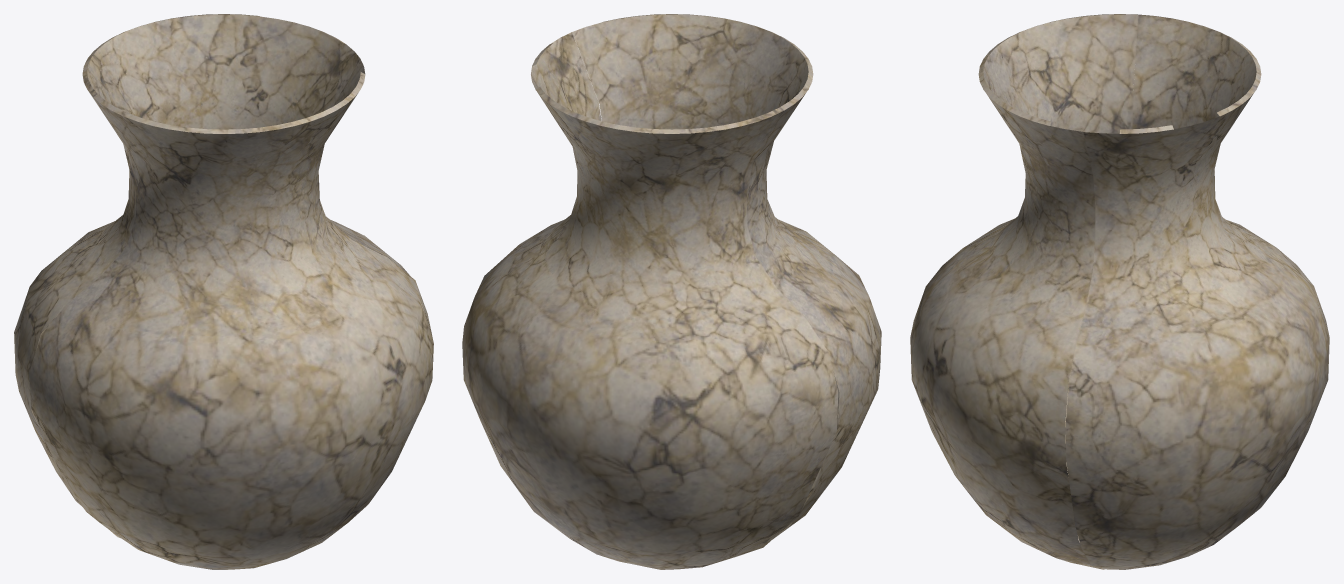
The model's file is vase.glb.
3 renders of one model, left to right at view 1: azimuth 30°, elevation 25°; view 2: azimuth 150°, elevation 25°; view 3: azimuth 270°, elevation 25°, orthographic.
Parts seen in each view (by area): view 1: vase; view 2: vase; view 3: vase.
Part boxes in pixels (<box>): vase: <box>14,14,433,569</box>; vase: <box>462,14,881,569</box>; vase: <box>910,14,1329,569</box>.
Size of the model in its own units: 9.82 by 12.27 by 9.83.
1 material, 1 textured.
